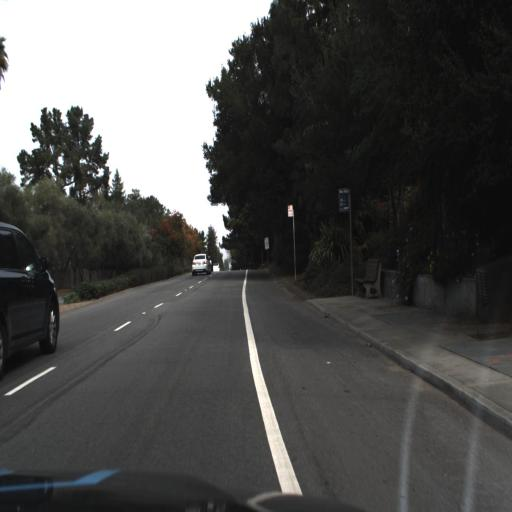car: (0, 224, 61, 388), (190, 248, 215, 276)
